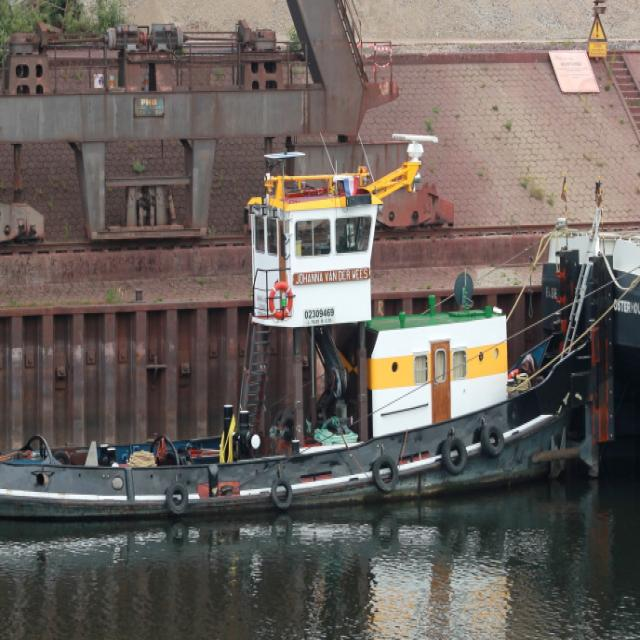tugboat: (1, 129, 620, 548)
